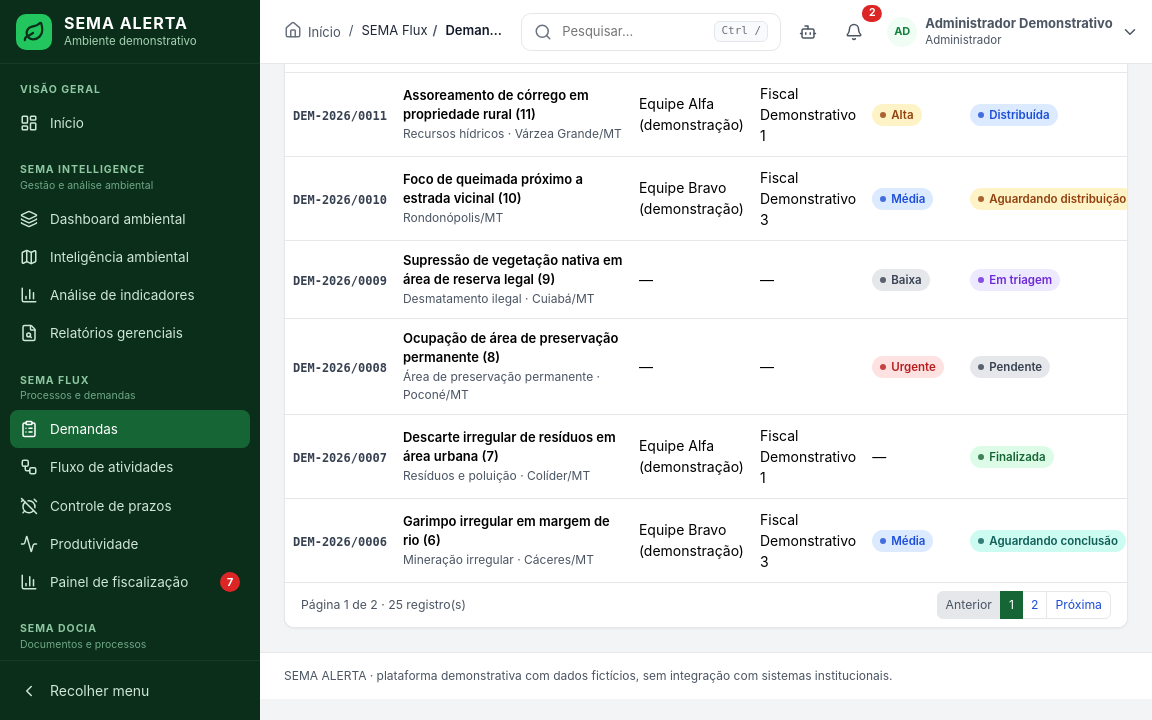
Test: Listagem de demandas › paginação usa a API: a página 2 vai para a URL e mostra o restante
The width and height of the screenshot is (1152, 720).
(page scrolled)
Click the button named "Página 2" at (1035,605), box [1022,591,1047,619]
(page scrolled)
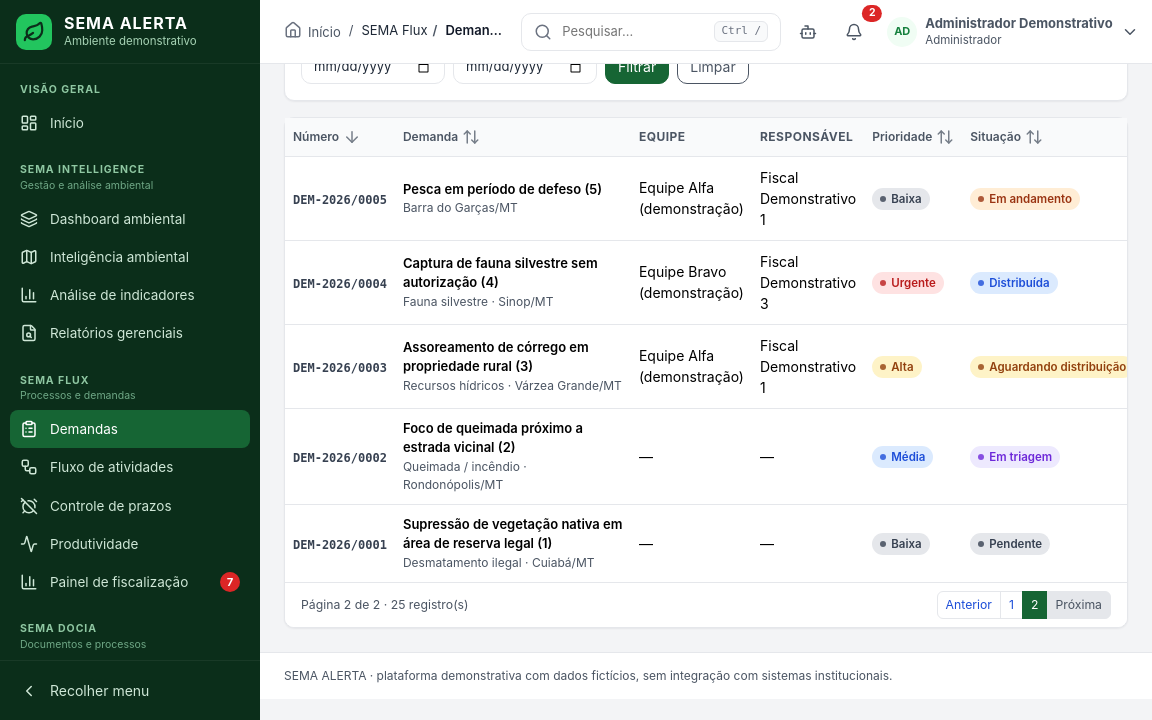
Check: the text "Página 2 de 2 · 25 registro(s)" is shown, box [301,596,468,614]
